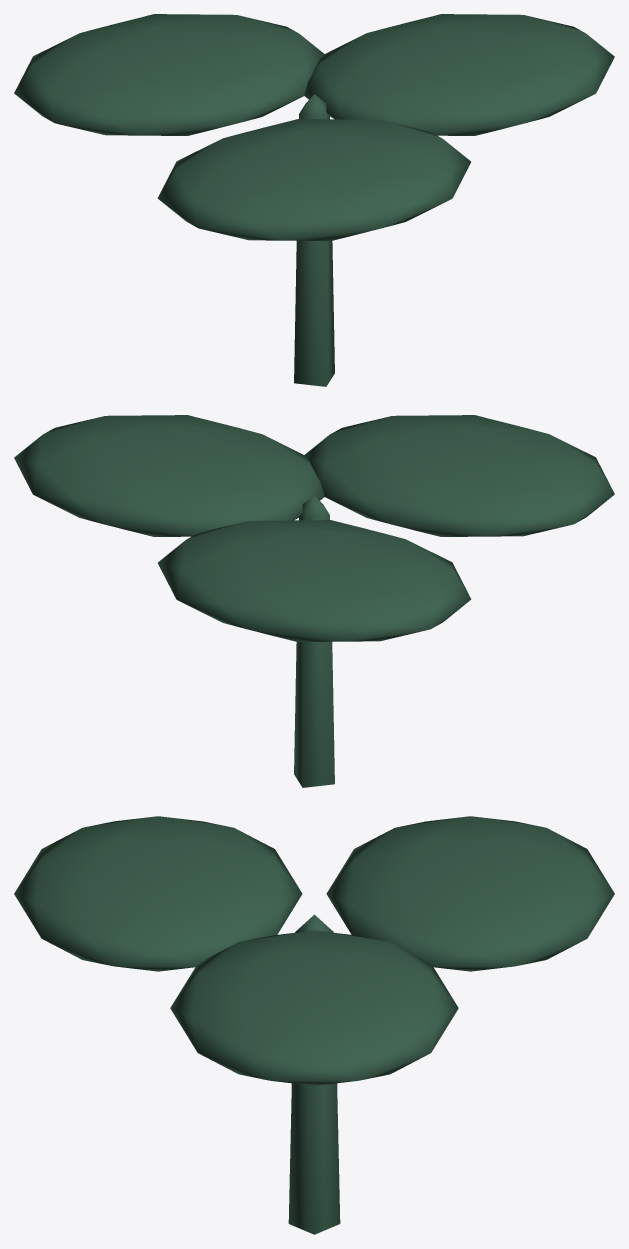
The model's file is clover.glb.
The picture shows the model from 3 angles, top to bottom: view 1: azimuth 30°, elevation 25°; view 2: azimuth 150°, elevation 25°; view 3: azimuth 270°, elevation 25°; orthographic projection. The views are drawn at different scales.
Parts seen in each view (by area): view 1: Clover; view 2: Clover; view 3: Clover.
Boxes of the visible parts, x1=… form: Clover: x1=14, y1=14, x2=614, y2=386; Clover: x1=14, y1=415, x2=614, y2=787; Clover: x1=14, y1=816, x2=614, y2=1234.
Bounding box in the file's own units: 0.0953 × 0.0542 × 0.0933.
